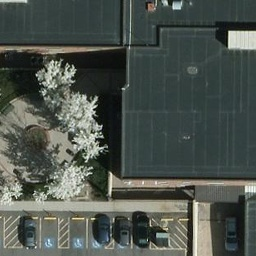car: (24, 216, 37, 250), (96, 213, 109, 247), (117, 218, 130, 252), (136, 213, 149, 247), (226, 216, 239, 250)
